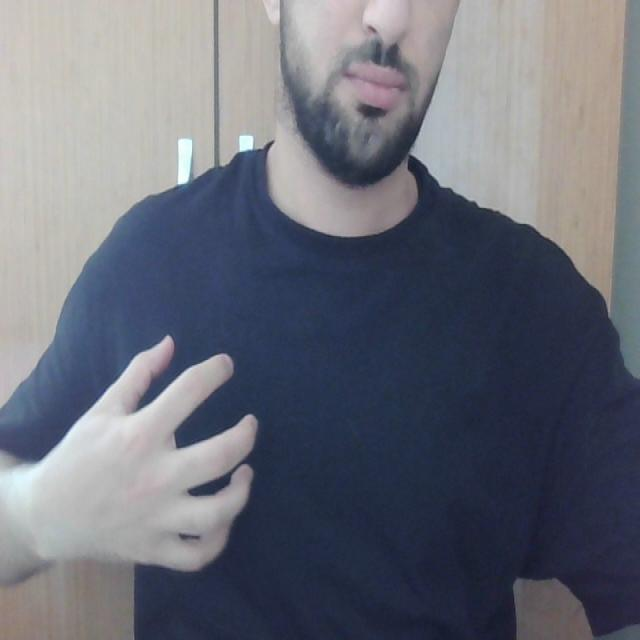Anne: (61, 332, 267, 579)
